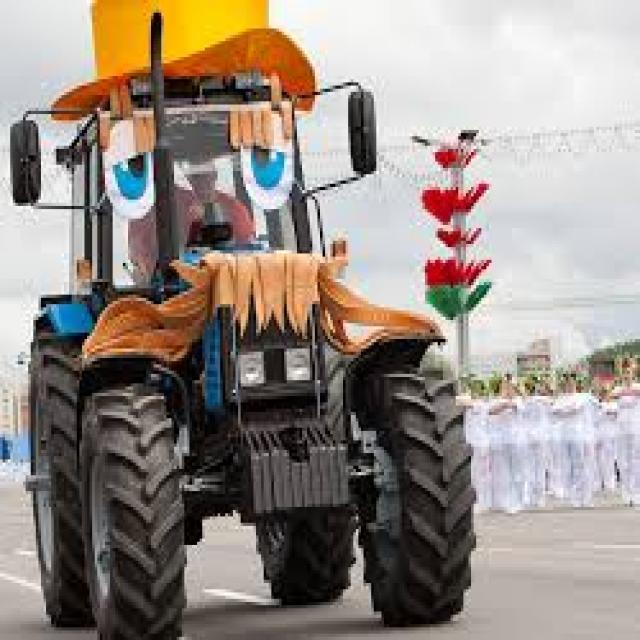Tratores - v5 YOLO V8L 2024-11-13: (0, 21, 471, 640)
